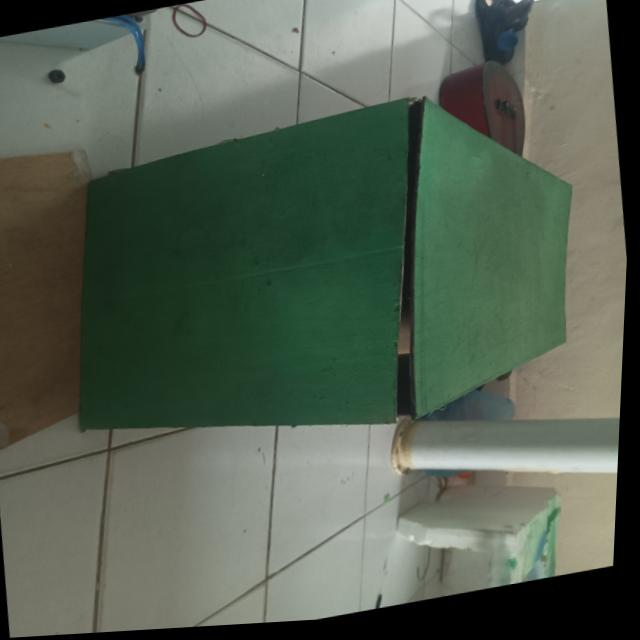green_box: (54, 61, 616, 481)
